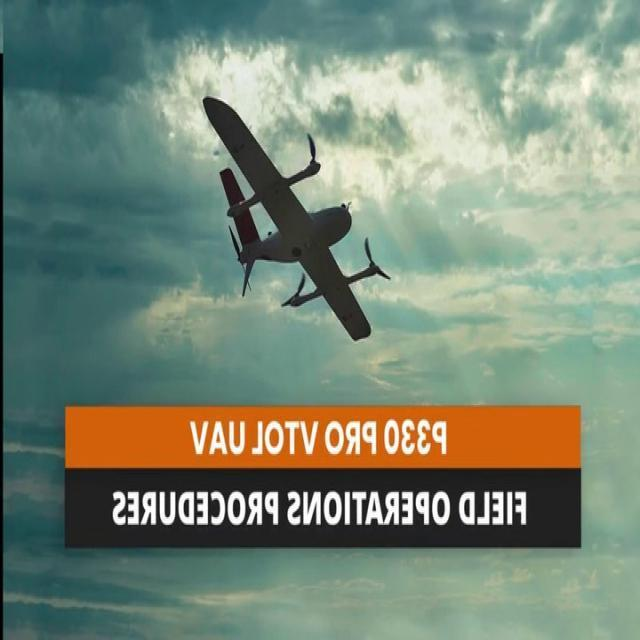iha: (189, 83, 430, 358)
